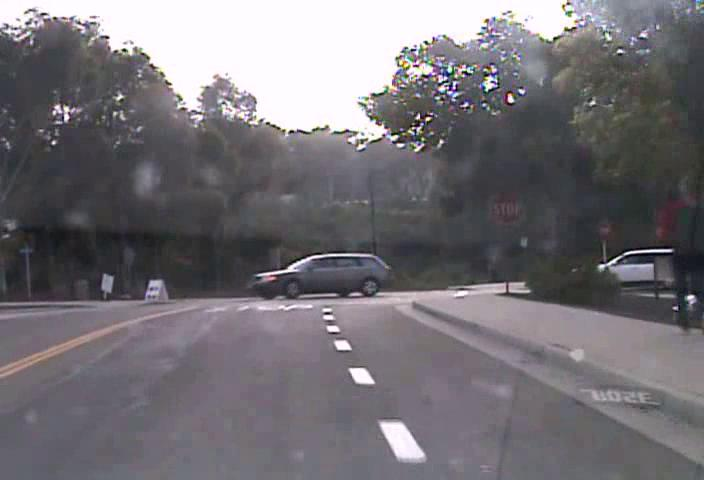stop: (488, 191, 526, 224)
